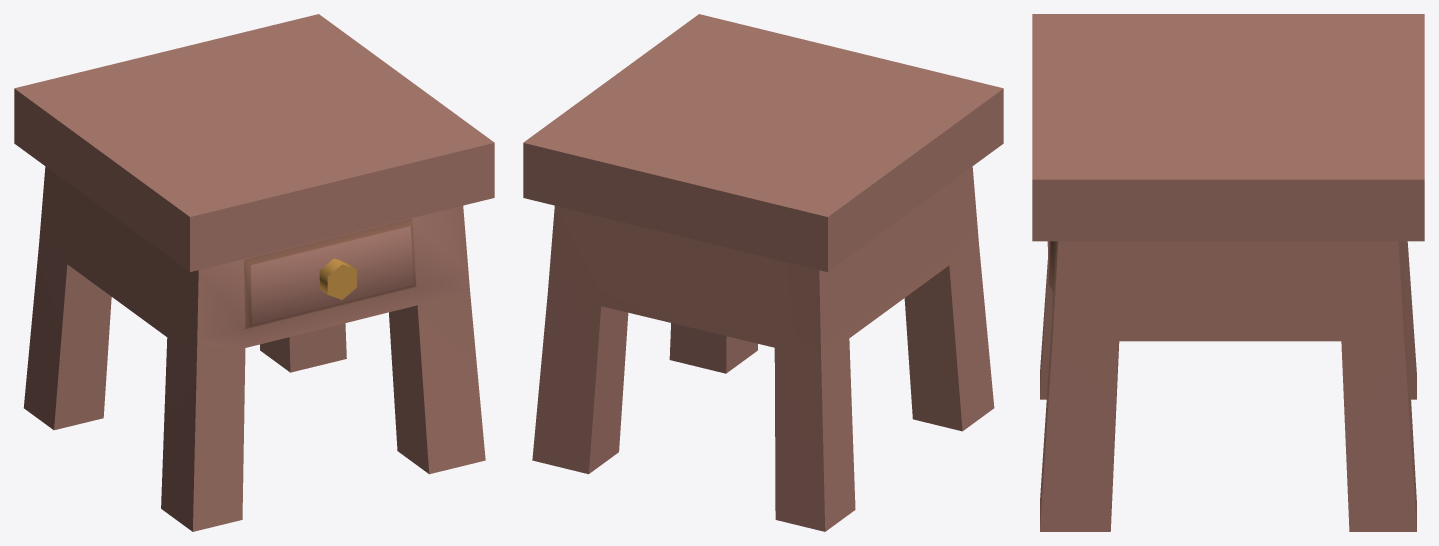
File: bedside table.fbx
3 renders of one model, left to right at view 1: azimuth 30°, elevation 25°; view 2: azimuth 150°, elevation 25°; view 3: azimuth 270°, elevation 25°, orthographic. The views are drawn at different scales.
Parts seen in each view (by area): view 1: night table; view 2: night table; view 3: night table.
Part boxes in pixels (box(x1,y1,x2,y2)): night table: box(14, 14, 494, 531); night table: box(523, 14, 1003, 531); night table: box(1032, 14, 1424, 531).
Bounding box in the file's own units: 1.5 × 1.5 × 1.5.
